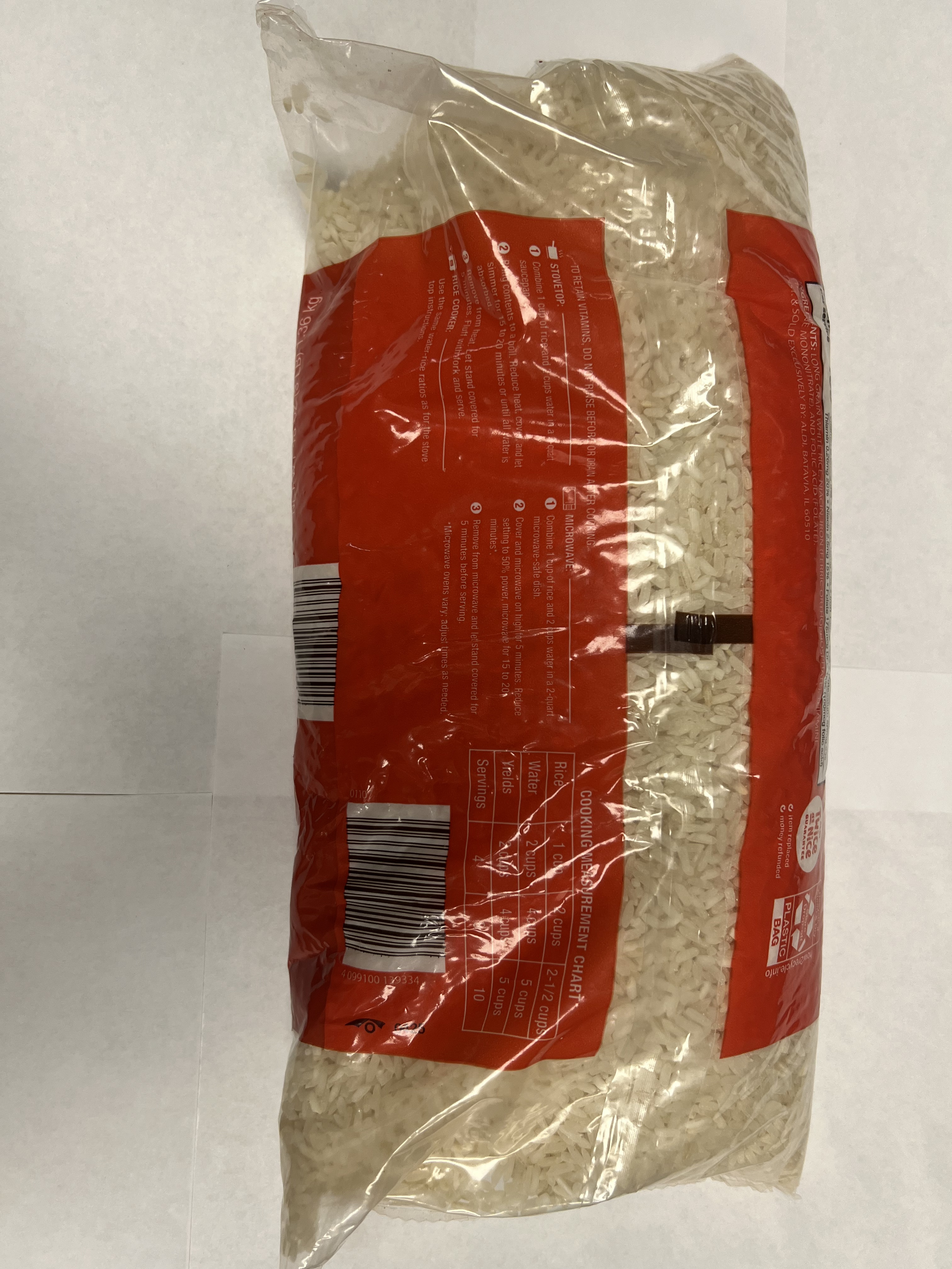packaged: (258, 34, 839, 1269)
